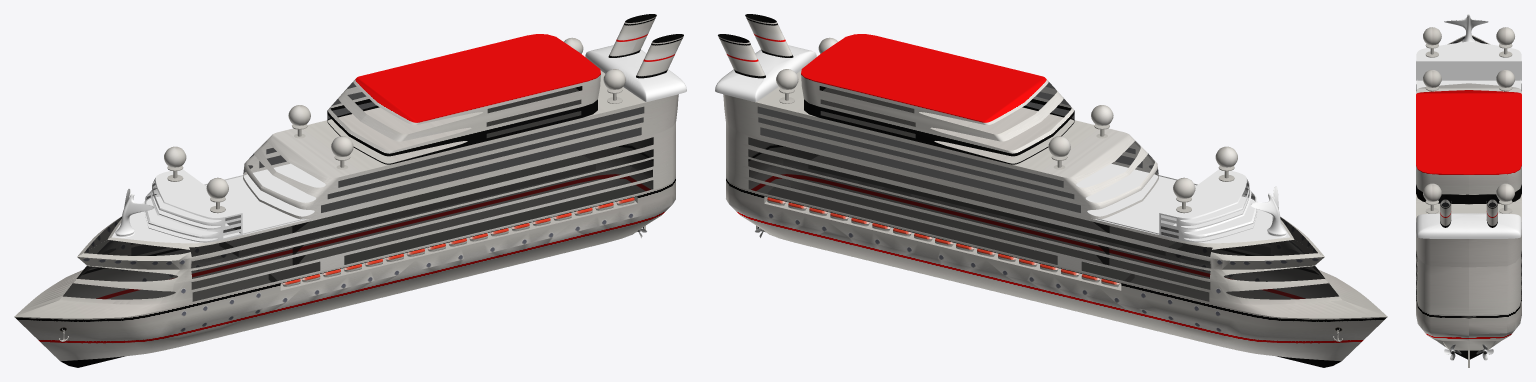
The model's file is passenger.glb.
3 views of the same model, side by side, from view 1: azimuth 30°, elevation 25°; view 2: azimuth 150°, elevation 25°; view 3: azimuth 270°, elevation 25° (orthographic). The views are drawn at different scales.
Parts seen in each view (by area): view 1: Object_15, Object_9, Object_14, Object_12, Object_13, Object_3, Object_11, Object_10; view 2: Object_15, Object_9, Object_14, Object_12, Object_13, Object_3, Object_11, Object_10; view 3: Object_15, Object_9, Object_12, Object_6, Object_14.
Boxes of the visible parts, left/top/right/bottom form: Object_15: left=14, top=14, right=683, bottom=367; Object_9: left=14, top=37, right=678, bottom=332; Object_14: left=189, top=117, right=653, bottom=278; Object_12: left=112, top=45, right=686, bottom=243; Object_13: left=63, top=82, right=644, bottom=301; Object_3: left=282, top=197, right=634, bottom=284; Object_11: left=82, top=213, right=633, bottom=331; Object_10: left=302, top=205, right=613, bottom=282; Object_15: left=718, top=14, right=1387, bottom=367; Object_9: left=723, top=37, right=1387, bottom=332; Object_14: left=748, top=117, right=1212, bottom=278; Object_12: left=715, top=45, right=1289, bottom=243; Object_13: left=757, top=82, right=1338, bottom=301; Object_3: left=767, top=197, right=1119, bottom=284; Object_11: left=768, top=213, right=1319, bottom=331; Object_10: left=788, top=205, right=1099, bottom=282; Object_15: left=1416, top=90, right=1521, bottom=359; Object_9: left=1416, top=27, right=1521, bottom=367; Object_12: left=1416, top=14, right=1521, bottom=238; Object_6: left=1444, top=344, right=1493, bottom=360; Object_14: left=1416, top=84, right=1521, bottom=298.
Bounding box in the file's own units: 12.33 × 3.57 × 2.
Materials: 13 (9 with a texture image).
